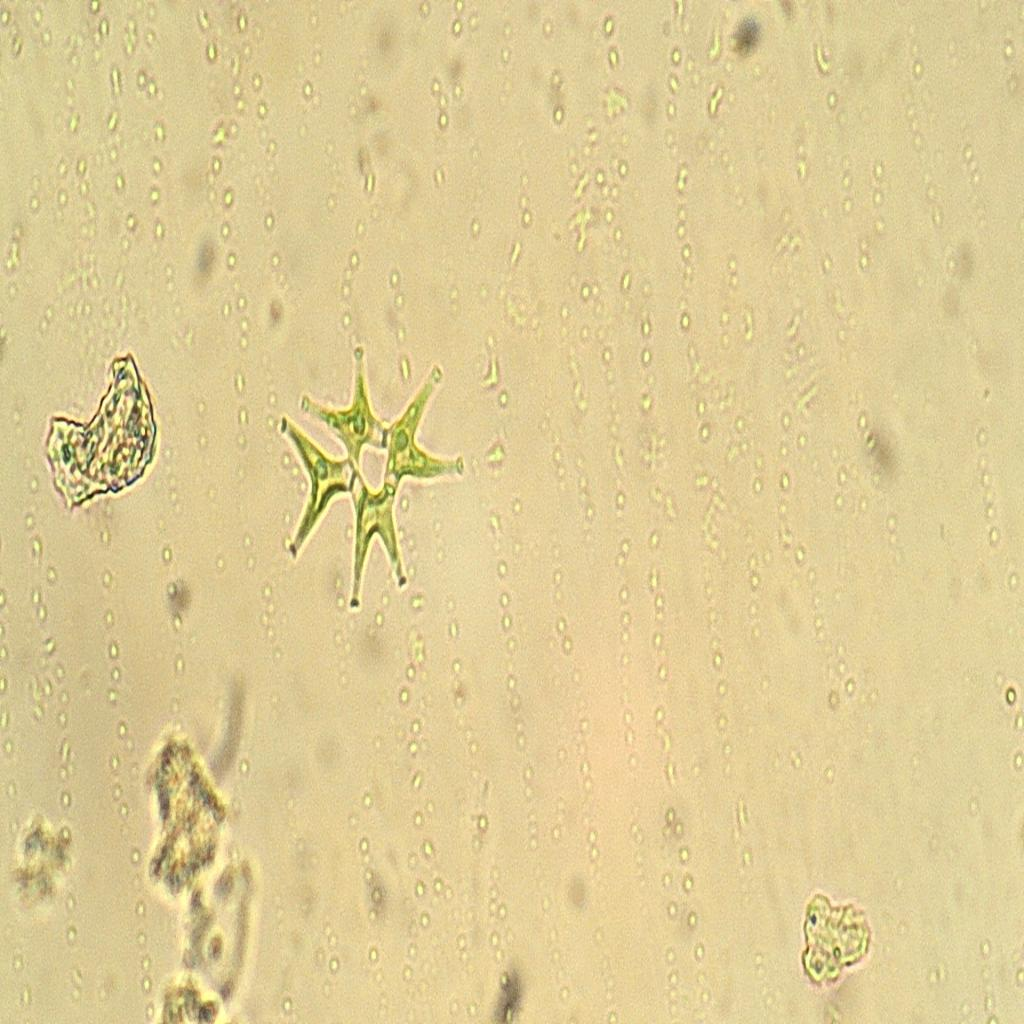Pediastrum_CT: (260, 324, 478, 632)
